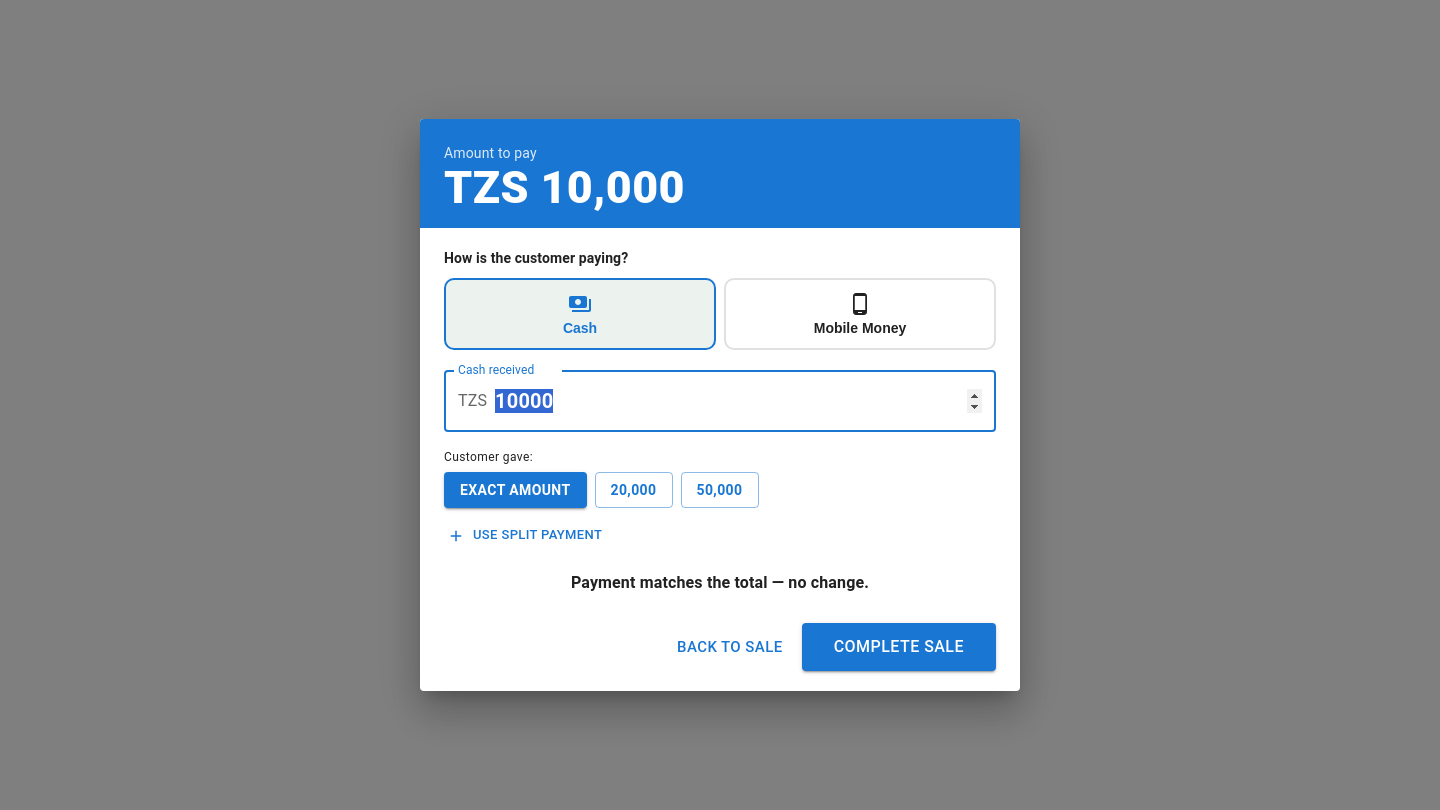
PaymentDialog › permits an explicit short payment only for an eligible credit customer
Later steps or results of the test are not shown.
Replace the text in the number field labelled "Cash received" with "7000": (746,401) [495,370,996,432]
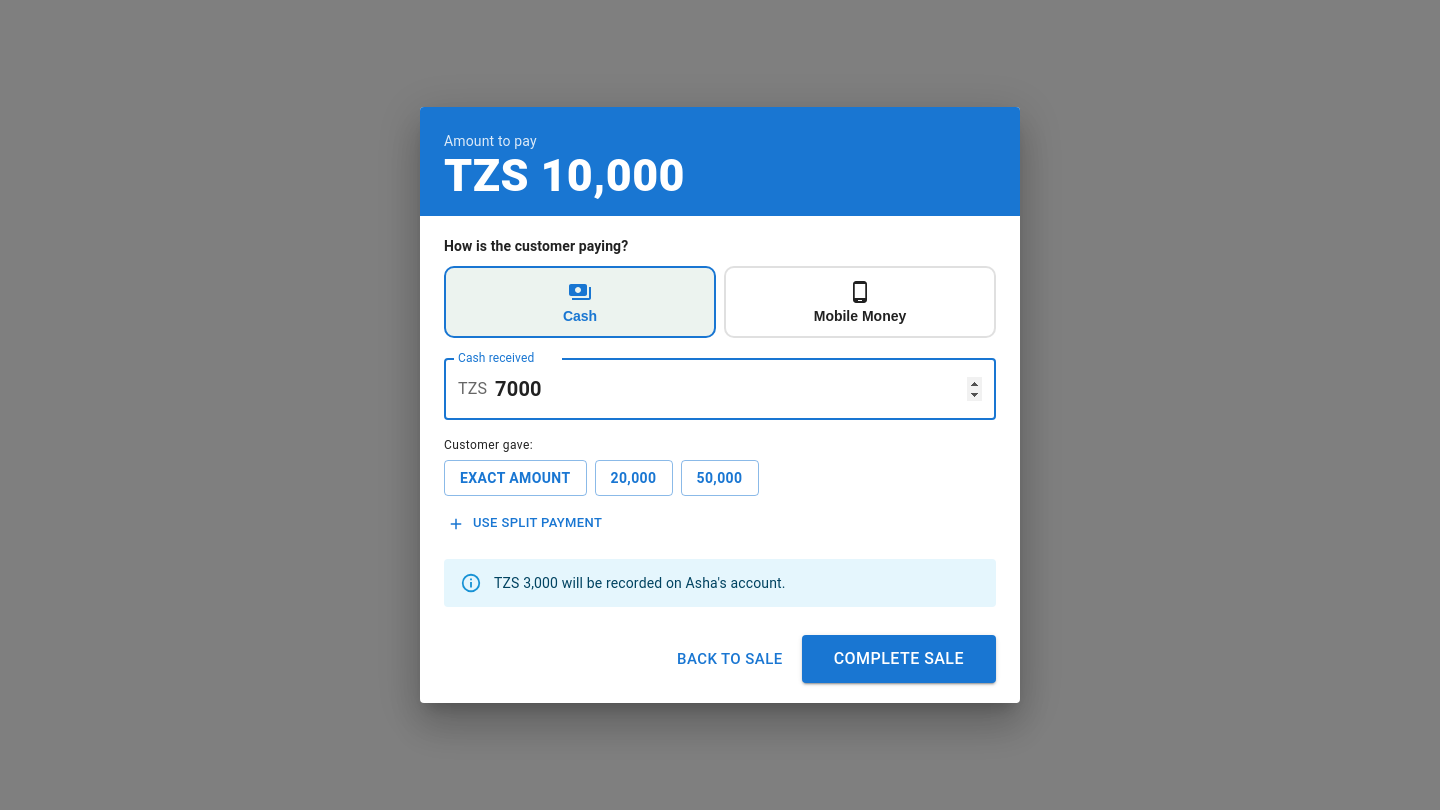
Now the text "TZS 3,000 will be recorded on Asha's account." is shown, box [494,575,786,591]
